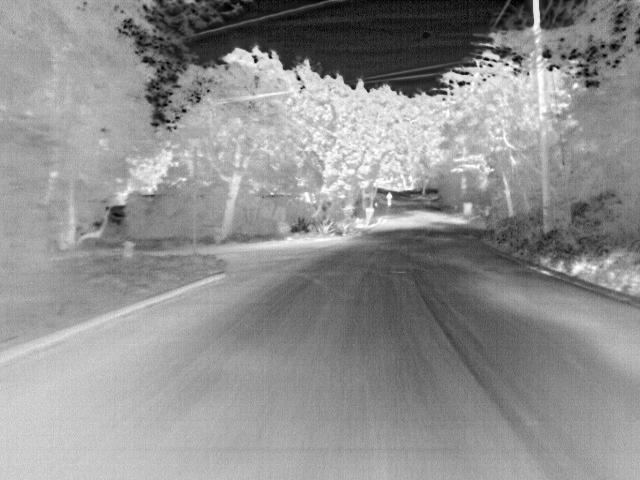person: (385, 191, 395, 208)
